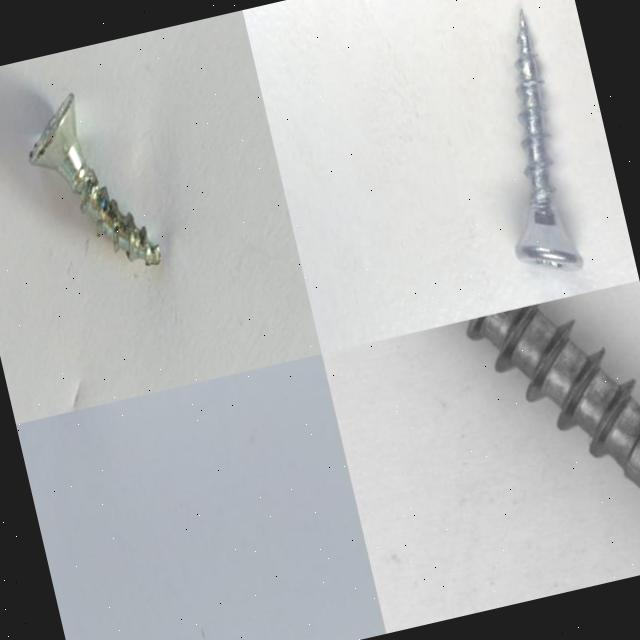Screw: (400, 280, 640, 615), (29, 93, 160, 266), (515, 11, 583, 272)
